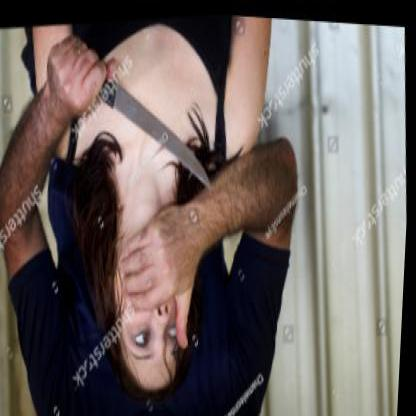knife: (62, 20, 224, 212)
